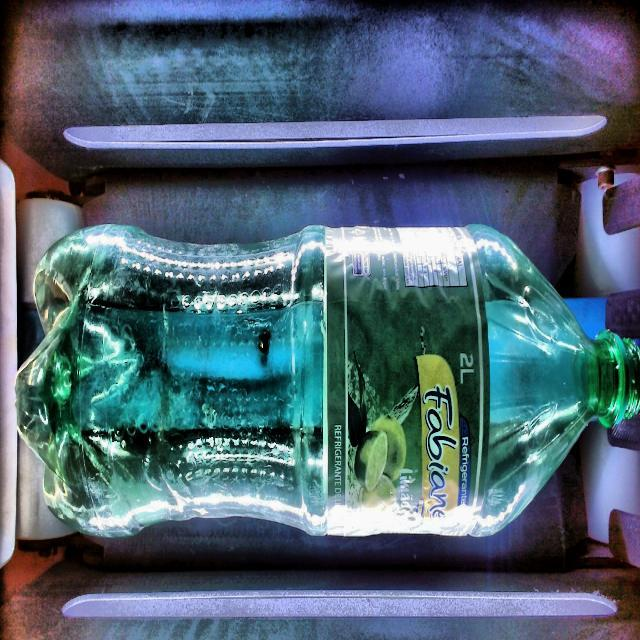bottom: (19, 225, 323, 536)
label: (325, 227, 489, 536)
neck: (565, 289, 640, 347), (608, 413, 640, 451)
